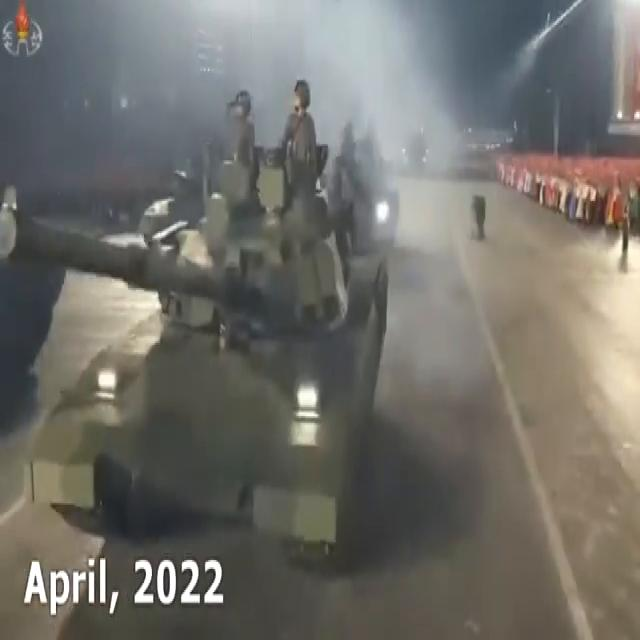north tank: (4, 62, 442, 593)
